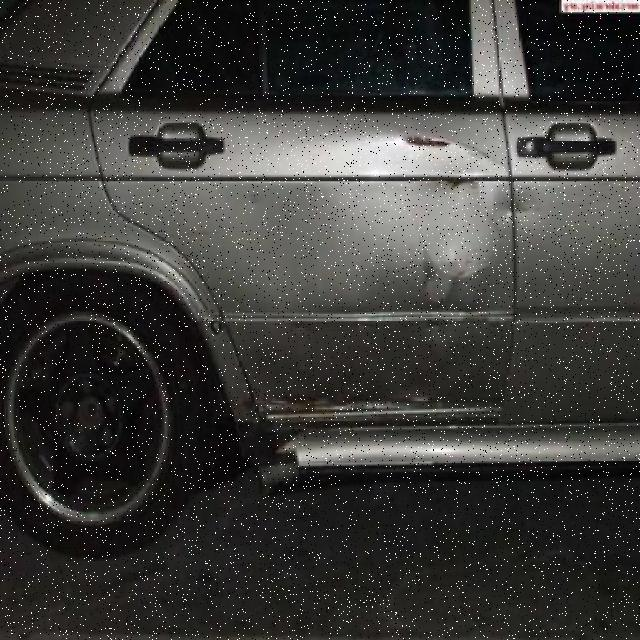damage: (208, 177, 329, 294), (226, 391, 444, 414), (418, 245, 494, 304), (499, 172, 539, 215), (460, 144, 499, 165), (403, 135, 452, 149), (439, 171, 481, 187), (489, 321, 507, 330), (424, 321, 442, 329), (356, 321, 369, 330), (292, 322, 308, 329)
